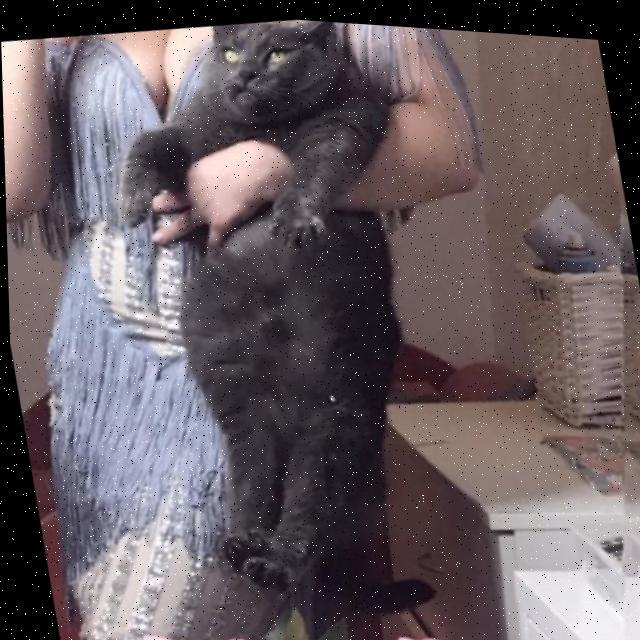Cats: (74, 4, 467, 640)
